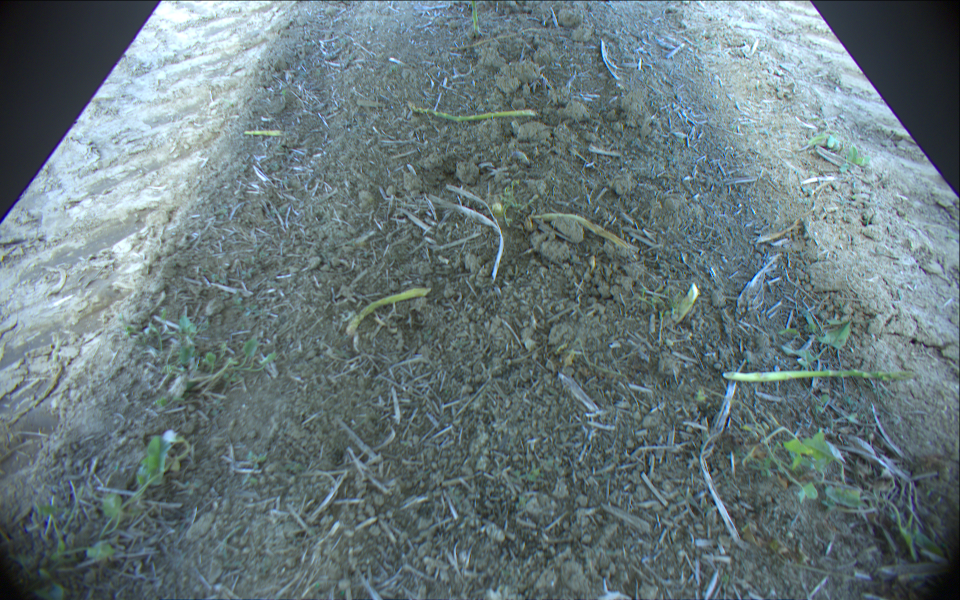aspa: (343, 287, 432, 336), (529, 213, 640, 250), (721, 368, 918, 382), (408, 106, 536, 125), (671, 280, 700, 323), (242, 127, 283, 137), (470, 1, 481, 37)
